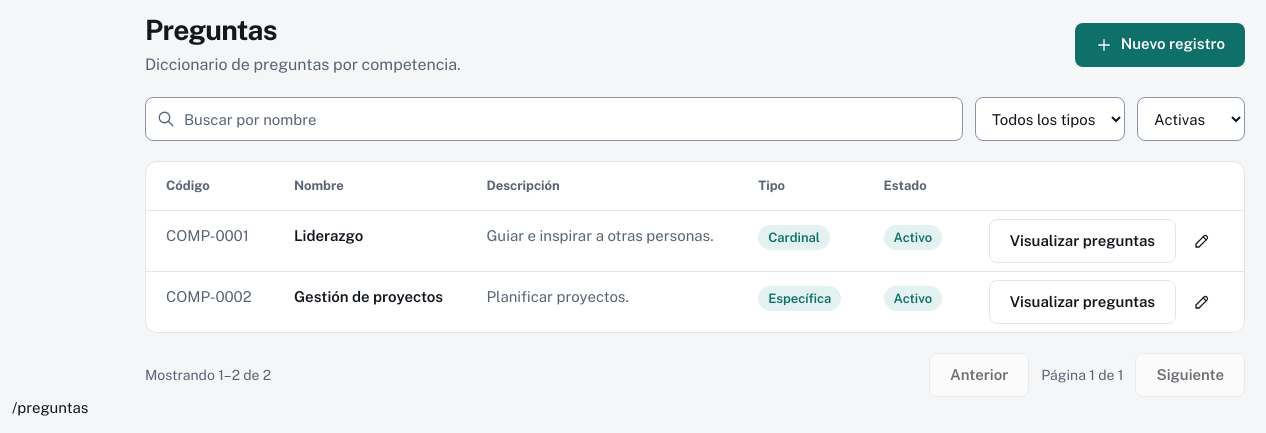
Test: PreguntasPage › guarda búsqueda, tipo y estado en la URL y no escribe Activo
The image size is (1266, 433).
Expected: the column heading "Liderazgo" is shown, [274, 210, 466, 271]
Select "Específica" in the 1st dropdown named "Filtrar por tipo". click: [1050, 119]
box: [975, 97, 1125, 141]
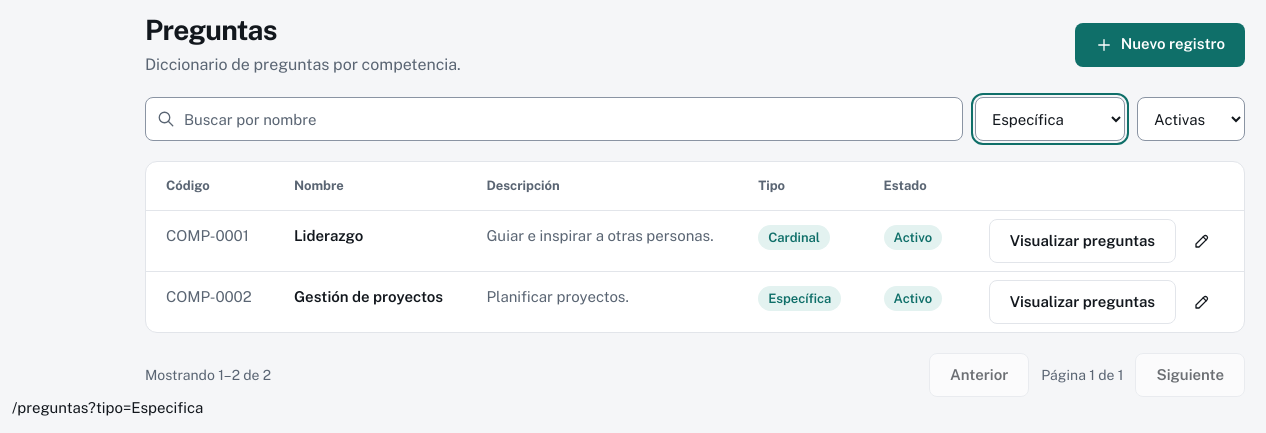
Select "Todas" in the 2nd dropdown named "Filtrar por estado". click: [1191, 119]
box: [1137, 97, 1245, 141]
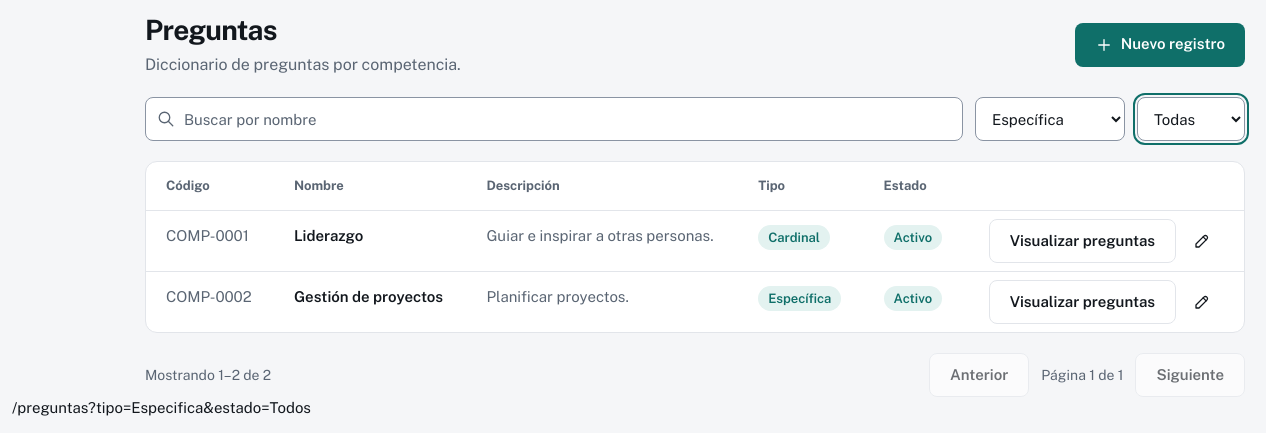
Result: the text with test id "ubicacion" reads "/preguntas?tipo=Especifica&estado=Todos" at [12, 398, 311, 416]
Select "Activas" in the 2nd dropdown named "Filtrar por estado". click: [1191, 119]
box: [1137, 97, 1245, 141]
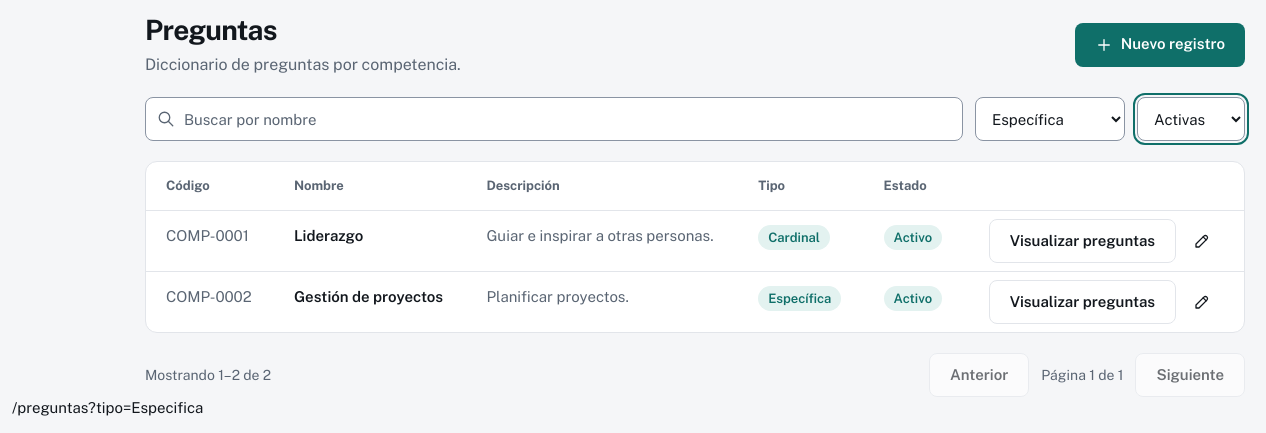
Expected: the text with test id "ubicacion" reads "/preguntas?tipo=Especifica", [12, 398, 203, 416]
Expected: the text with test id "ubicacion" does not show "estado", [12, 398, 203, 416]
Type "lider" into the search field named "Buscar por nombre de la competencia". click: [554, 119]
box: [145, 97, 963, 141]
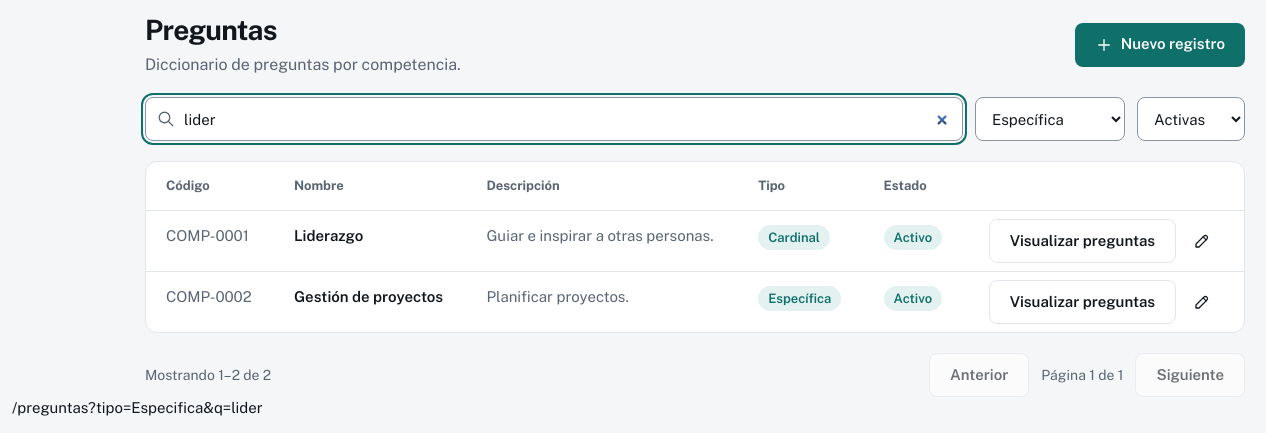
Result: the text with test id "ubicacion" shows "q=lider" at [12, 398, 263, 416]
